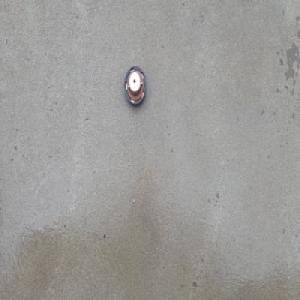FuelCap: (123, 65, 146, 107)
